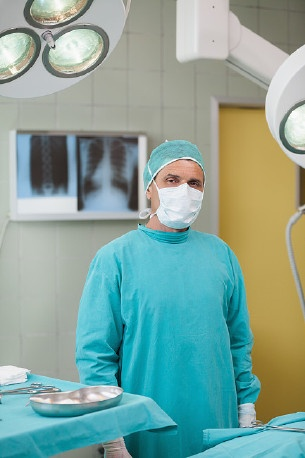Mask: (146, 168, 209, 231)
